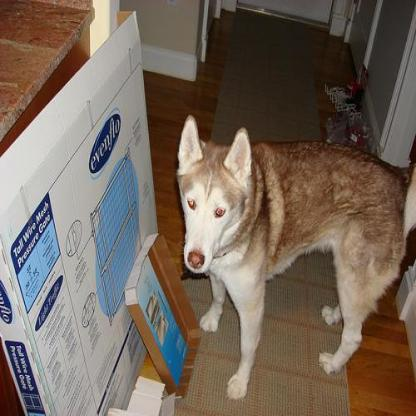Siberian_husky: (178, 113, 414, 397)
